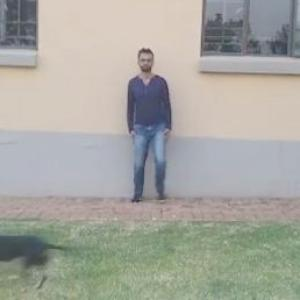follow: (128, 45, 174, 205)
